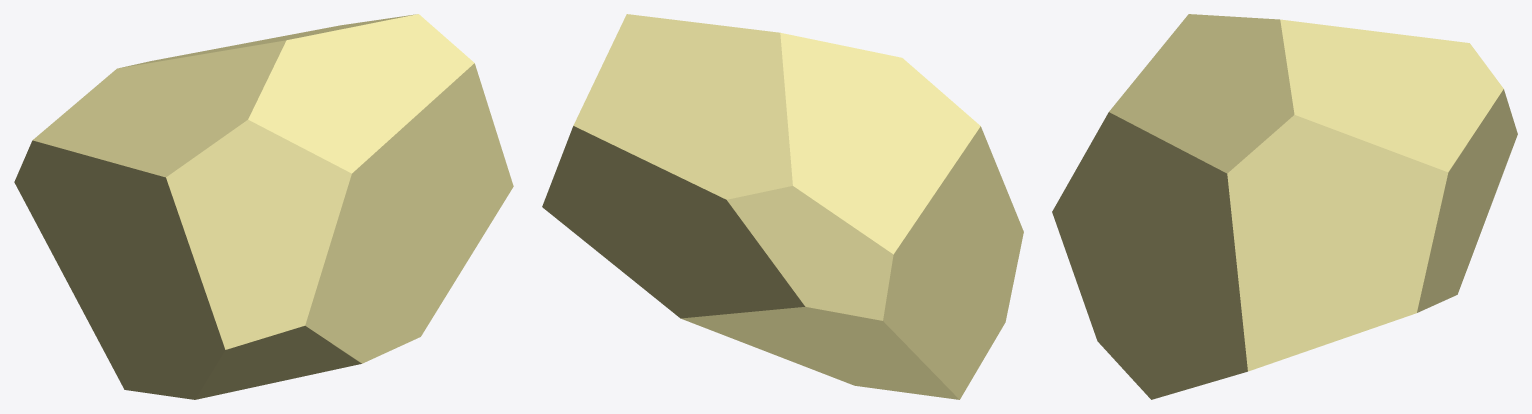
The model's file is stone_2.glb.
3 views of the same model, side by side, from view 1: azimuth 30°, elevation 25°; view 2: azimuth 150°, elevation 25°; view 3: azimuth 270°, elevation 25° (orthographic). The views are drawn at different scales.
Visible parts, largest first — view 1: Sphere.001; view 2: Sphere.001; view 3: Sphere.001.
Part boxes in pixels (x1=…): Sphere.001: x1=14, y1=14, x2=513, y2=399; Sphere.001: x1=542, y1=14, x2=1023, y2=399; Sphere.001: x1=1052, y1=14, x2=1517, y2=399.
Bounding box in the file's own units: 1.73 × 1.28 × 1.46.
1 material, 1 textured.
